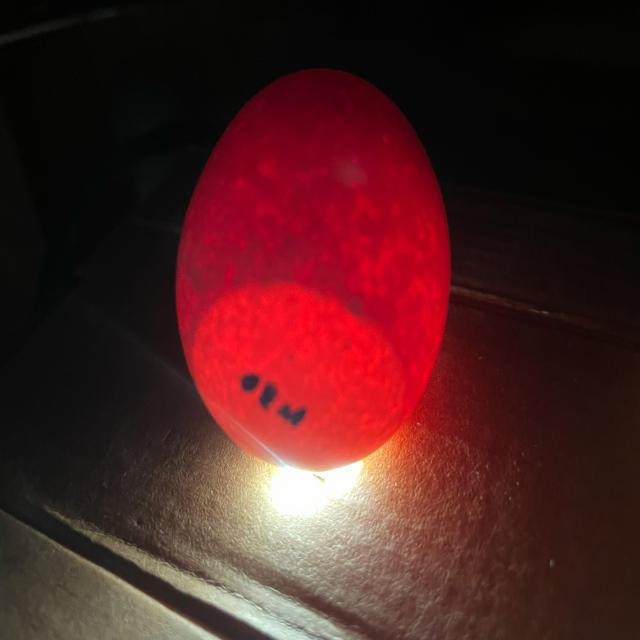fertile: (176, 70, 450, 470)
